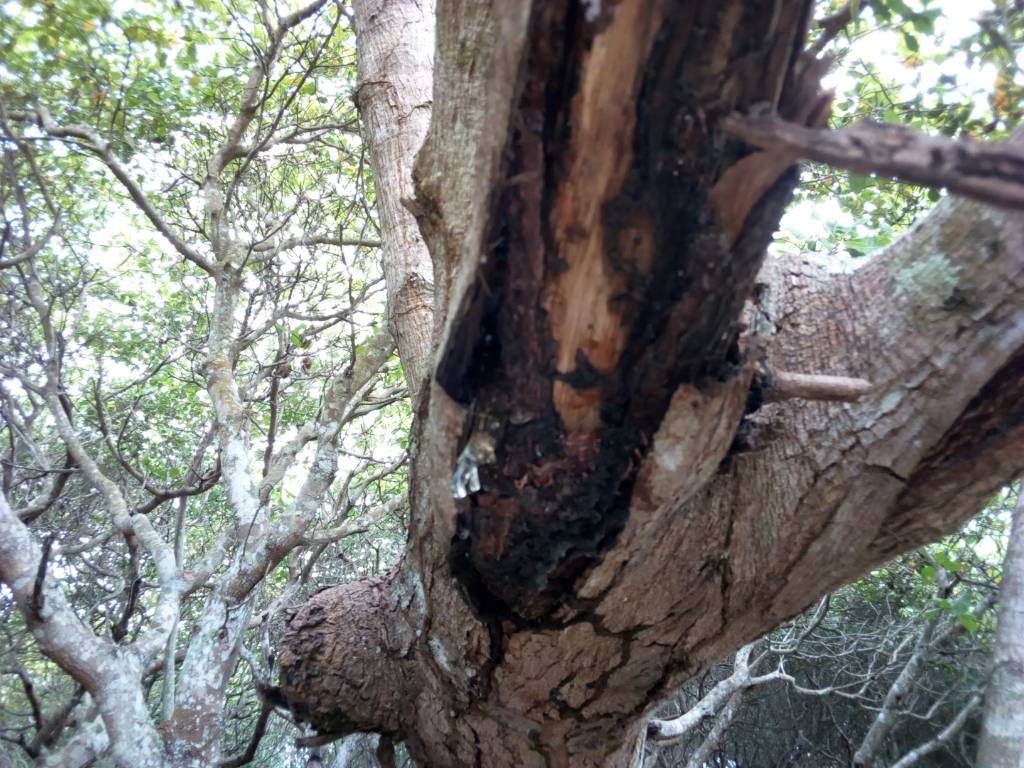Gommose: (442, 7, 745, 628)
